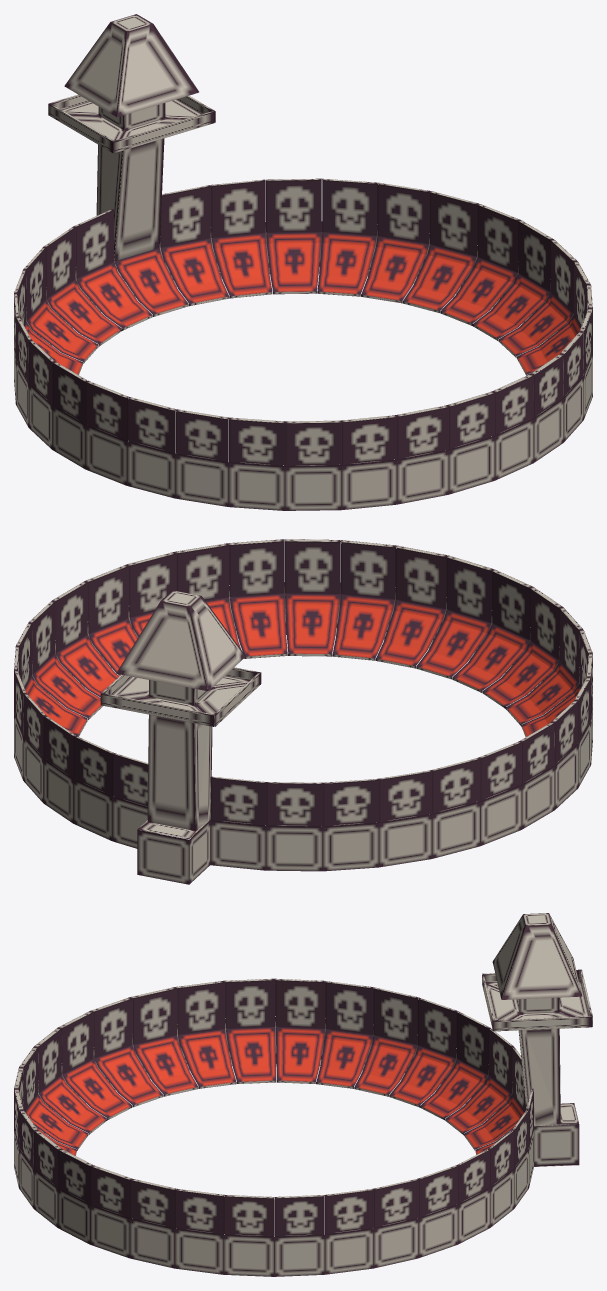
File: arena.obj
3 views of the same model, one above another, from view 1: azimuth 30°, elevation 25°; view 2: azimuth 150°, elevation 25°; view 3: azimuth 270°, elevation 25° (orthographic). The views are drawn at different scales.
Parts seen in each view (by area): view 1: Cylinder; view 2: Cylinder; view 3: Cylinder.
Boxes of the visible parts, x1,y1,x2,y2 form: Cylinder: (14, 14, 592, 510); Cylinder: (14, 539, 592, 884); Cylinder: (14, 913, 592, 1276).
Bounding box in the file's own units: 1273 × 643 × 1417.
